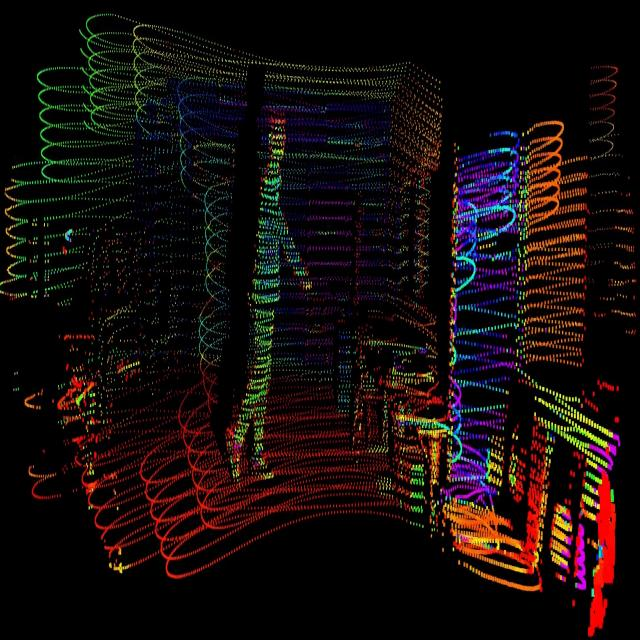human: (224, 97, 313, 503)
